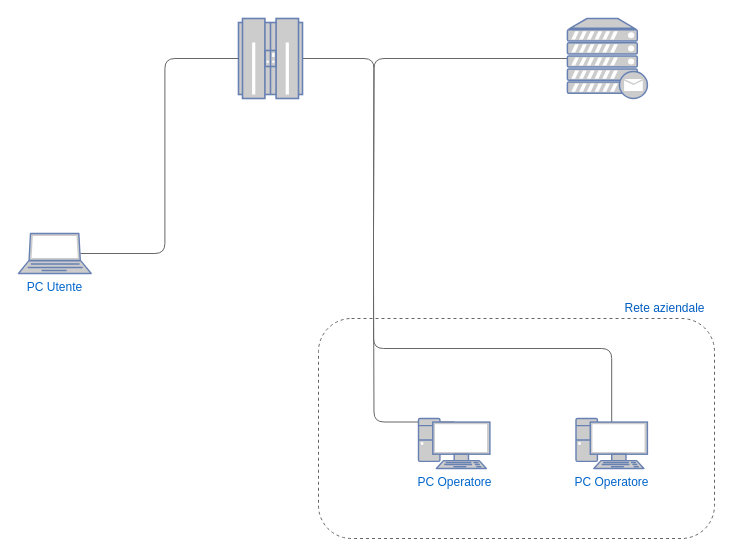
The diagram is 732 pixels wide and 556 high, and some of its shapes have lost their labels. The box of each missing label's shape, as (x1, y1, x2, y2) in pixels:
Mail Server: (566, 17, 648, 99)
Server: (237, 17, 303, 99)
